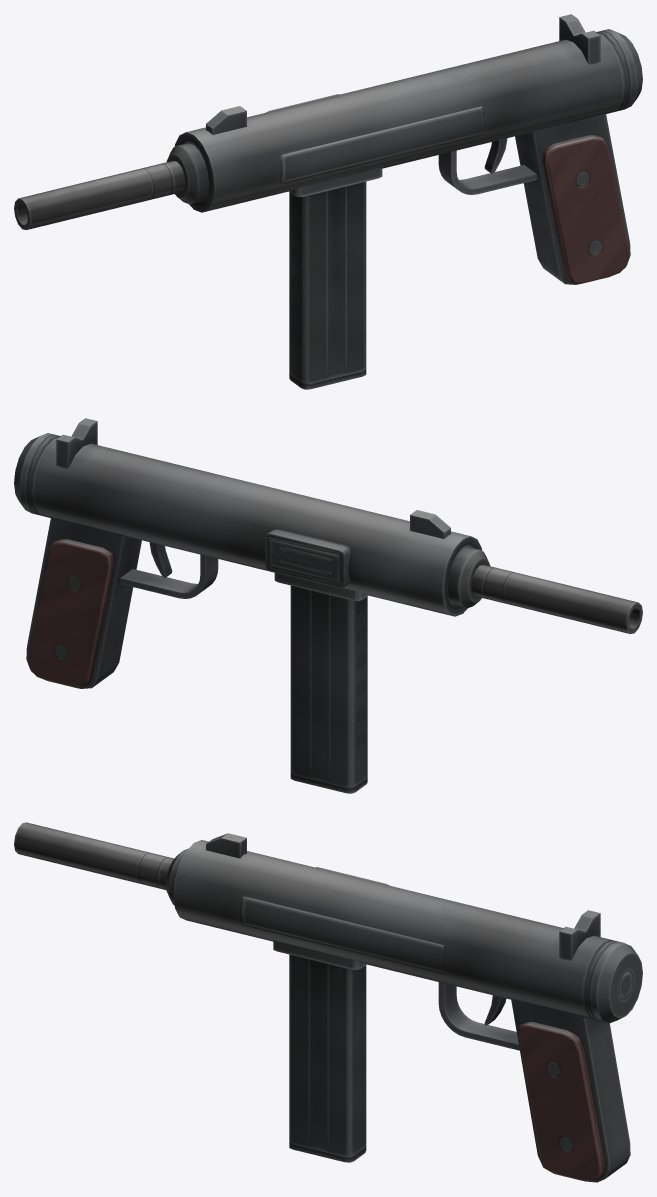
File: gun.glb
The picture shows the model from 3 angles, top to bottom: view 1: azimuth 30°, elevation 25°; view 2: azimuth 150°, elevation 25°; view 3: azimuth 330°, elevation 25°; orthographic projection.
Parts seen in each view (by area): view 1: Object_2; view 2: Object_2; view 3: Object_2.
Part boxes in pixels (x1,y1,x2,y2): Object_2: (14,14,642,389); Object_2: (14,418,642,793); Object_2: (14,822,642,1182).
Size of the model in its own units: 0.4856 by 0.2217 by 0.0627.
Materials: 1 (1 with a texture image).
